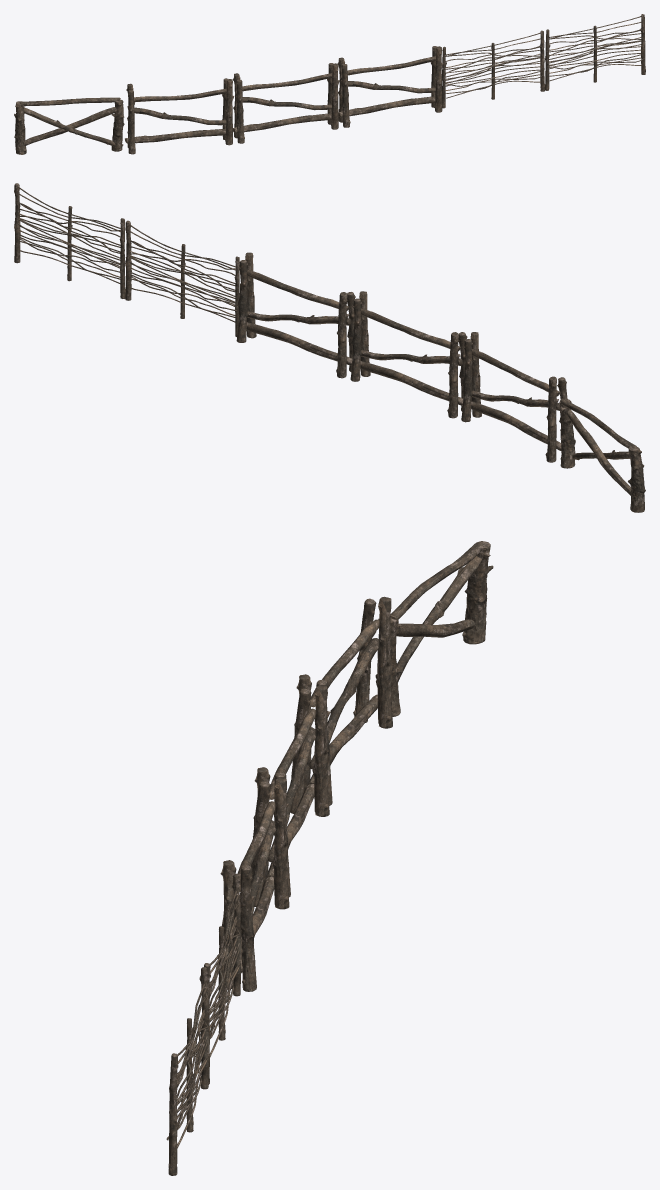
Rendered from SM_Fence_01b_Splines_28.fbx.
The picture shows the model from 3 angles, top to bottom: view 1: azimuth 30°, elevation 25°; view 2: azimuth 150°, elevation 25°; view 3: azimuth 270°, elevation 25°; orthographic projection. The views are drawn at different scales.
Visible parts, largest first — view 1: SM_Fence_01b_Splines_22_LOD0; view 2: SM_Fence_01b_Splines_22_LOD0; view 3: SM_Fence_01b_Splines_22_LOD0.
Boxes of the visible parts, left/top/right/bottom form: SM_Fence_01b_Splines_22_LOD0: left=14, top=14, right=645, bottom=154; SM_Fence_01b_Splines_22_LOD0: left=14, top=183, right=645, bottom=512; SM_Fence_01b_Splines_22_LOD0: left=166, top=541, right=493, bottom=1175.
Size of the model in its own units: 1281 by 327 by 140.
